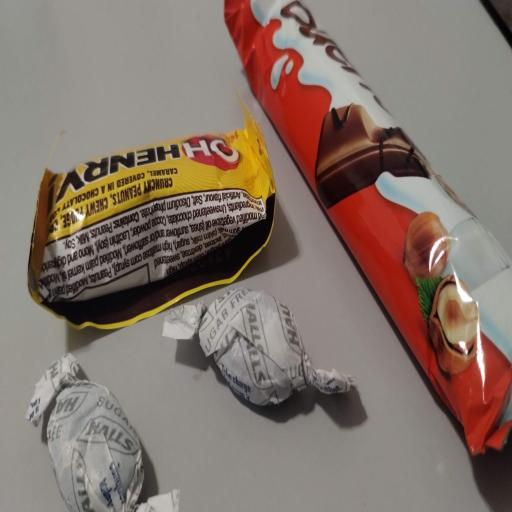chocolate: (225, 0, 511, 453), (29, 105, 275, 328), (27, 354, 178, 511), (163, 288, 355, 405)
